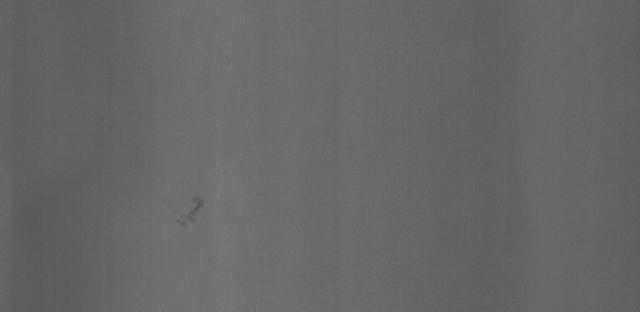water_spot: (168, 176, 212, 238)
